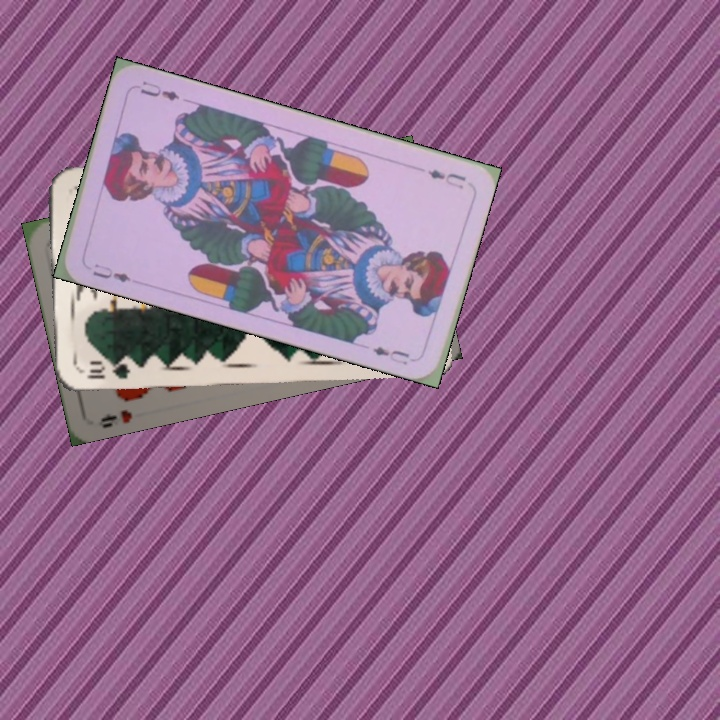EU: (88, 259, 134, 285), (423, 165, 469, 191)
G10: (82, 355, 137, 382)
H9: (96, 406, 135, 431)
